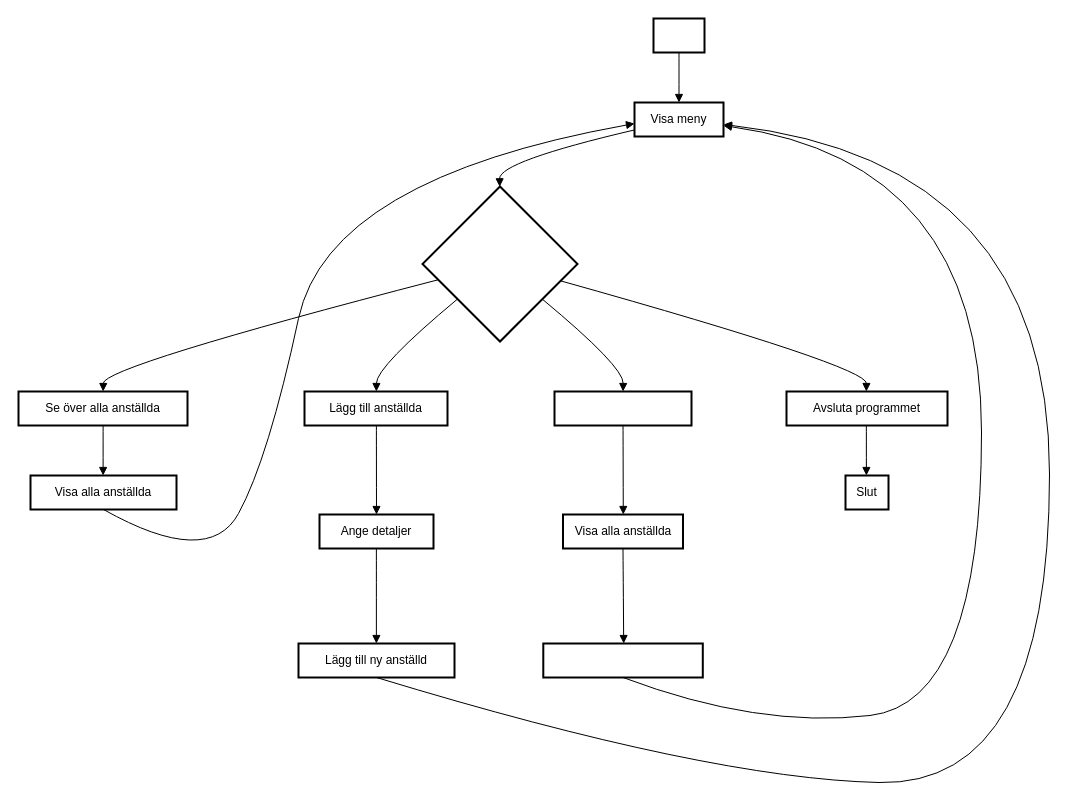
Some shapes in this 1067 by 800 pixel diagram are drawn without their labels. The centre of each missing label's shape, as x and y in pixels:
Start: the point at 678,35
Ta bort anställd: the point at 622,660
Ta bort anställda: the point at 622,408
Välj alternativ: the point at 499,263
